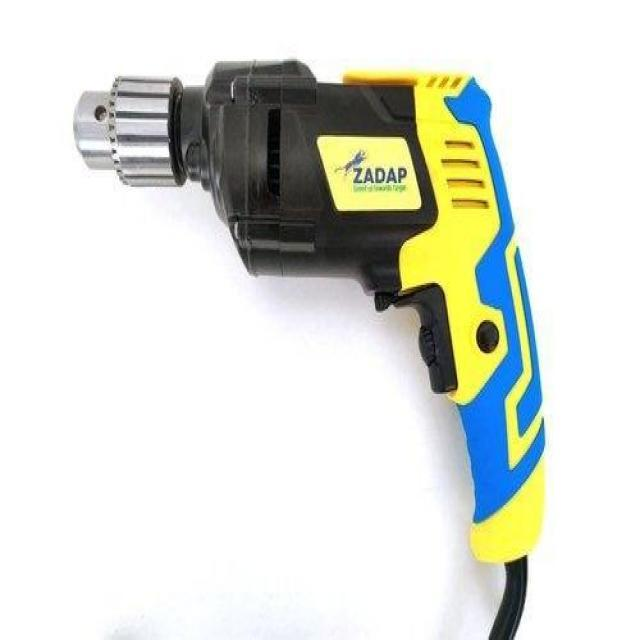drill: (73, 59, 550, 640)
